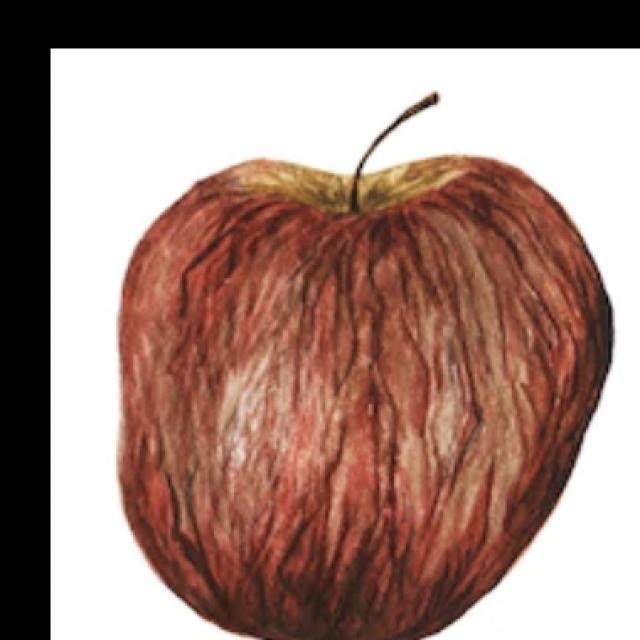Rotten: (148, 150, 574, 635)
